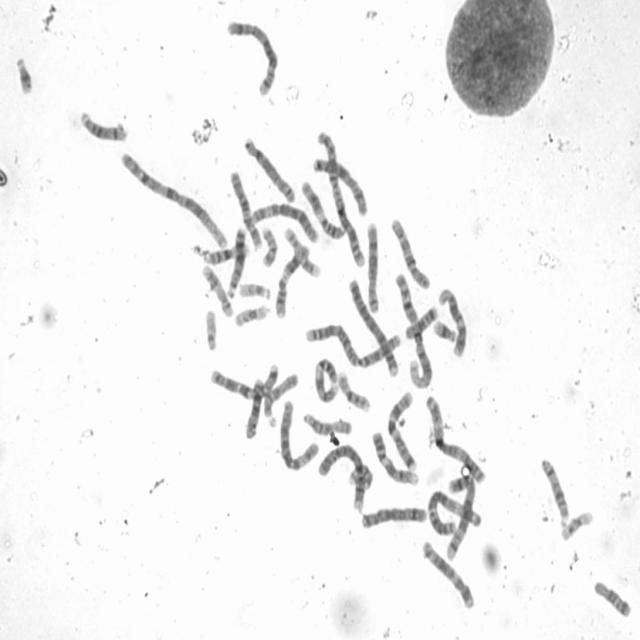A1: (116, 146, 230, 250), (391, 269, 434, 390)
A2: (314, 125, 367, 270), (302, 316, 404, 372)
A3: (422, 390, 487, 484), (424, 476, 480, 538)
B4: (345, 274, 399, 379), (315, 438, 368, 514)
B5: (223, 15, 280, 99), (443, 468, 478, 562)
C10: (388, 214, 431, 292), (227, 167, 264, 251)
C11: (299, 176, 345, 240), (273, 240, 310, 319)
C12: (418, 535, 476, 611), (436, 283, 468, 360)
C6: (276, 394, 321, 472), (247, 198, 320, 245)
C7: (208, 360, 281, 402), (384, 387, 418, 473)
C8: (240, 132, 298, 205), (363, 217, 381, 315)
C9: (370, 427, 420, 487), (312, 354, 339, 404)
D13: (224, 222, 248, 300), (243, 374, 266, 441)
D14: (538, 452, 571, 526), (76, 106, 130, 144)
D15: (260, 368, 300, 428), (300, 409, 354, 436)
E16: (335, 366, 372, 413), (198, 237, 252, 265)
E17: (282, 223, 323, 279), (199, 260, 235, 319)
E18: (591, 576, 633, 619), (402, 301, 440, 341)
F19: (558, 506, 595, 542), (232, 300, 272, 328)
F20: (258, 222, 279, 269), (346, 462, 374, 489)
G21: (12, 50, 35, 97), (431, 316, 458, 344)
G22: (202, 304, 219, 352), (236, 278, 272, 300)
X: (309, 152, 370, 218)
